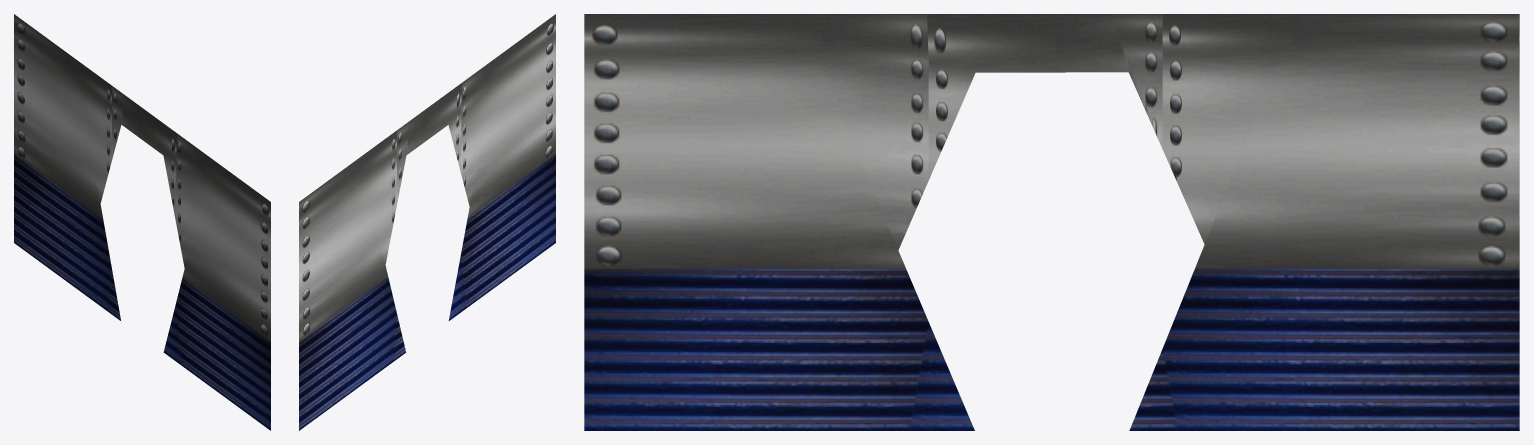
The model's file is W_A_AulaMinisterium_2520.glb.
3 renders of one model, left to right at view 1: azimuth 30°, elevation 25°; view 2: azimuth 150°, elevation 25°; view 3: azimuth 270°, elevation 25°, orthographic. The views are drawn at different scales.
Visible parts, largest first — view 1: pPlaneShape183; view 2: pPlaneShape183; view 3: pPlaneShape183.
Part boxes in pixels (box(x1,y1,x2,y2)): pPlaneShape183: box(14, 14, 270, 430); pPlaneShape183: box(299, 14, 555, 430); pPlaneShape183: box(584, 14, 1519, 430).
Size of the model in its own units: 1.75e-05 by 0.3891 by 0.7909.
Materials: 1 (1 with a texture image).
